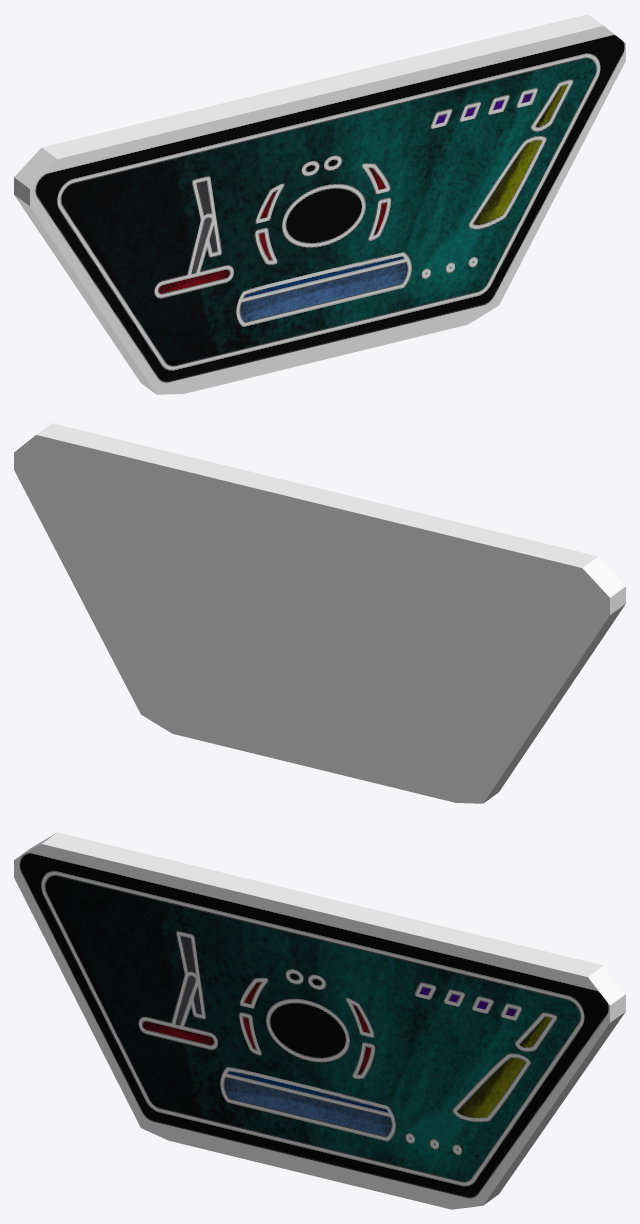
The model's file is collectable_control_panel.obj.
3 renders of one model, top to bottom at view 1: azimuth 30°, elevation 25°; view 2: azimuth 150°, elevation 25°; view 3: azimuth 330°, elevation 25°, orthographic.
Visible parts, largest first — view 1: MeshBody1; view 2: MeshBody1; view 3: MeshBody1.
Part boxes in pixels (x1,y1,x2,y2): MeshBody1: (14, 14, 625, 394); MeshBody1: (14, 423, 625, 803); MeshBody1: (14, 832, 625, 1209).
Bounding box in the file's own units: 1.08 × 0.46 × 0.05.
